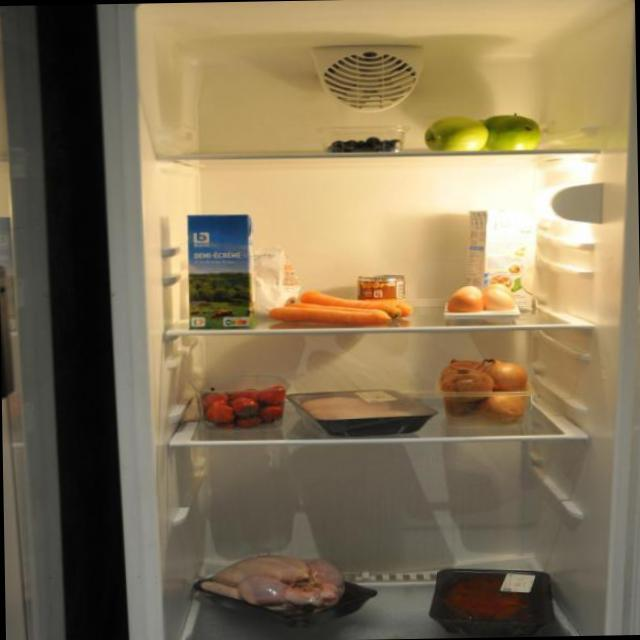Carne pollo: (193, 548, 378, 626)
Huevos: (445, 286, 513, 327)
Manzana: (484, 105, 555, 160), (418, 102, 484, 159)
